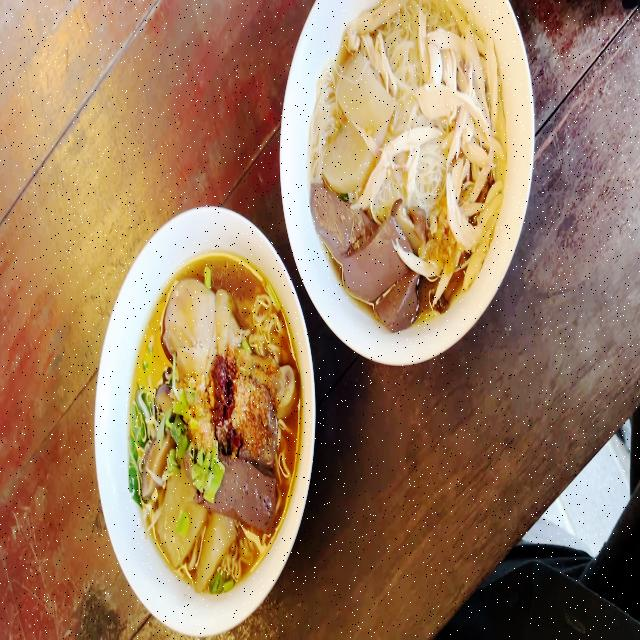boiled_chicken_blood_jelly: (306, 181, 372, 266), (346, 211, 397, 298), (223, 459, 276, 530), (376, 265, 414, 319), (259, 392, 279, 461)
chicken_drumstick: (155, 280, 296, 409)
chicken_shredded: (423, 18, 506, 272), (358, 124, 438, 208), (347, 0, 408, 50)
daikon_radish: (156, 476, 200, 556), (345, 55, 384, 133), (324, 125, 368, 183), (198, 512, 234, 582)
noodle: (309, 0, 513, 323), (127, 266, 306, 604)
